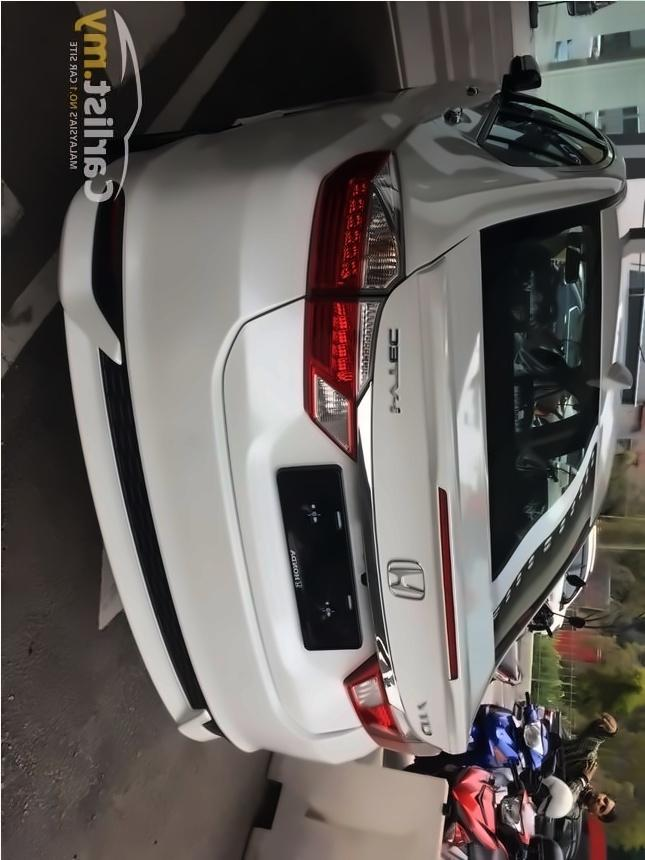Car boot: (221, 232, 499, 750), (496, 52, 554, 102)
Passenger-s door - -R-L-: (193, 96, 630, 193)
Rear bumper: (60, 136, 372, 781)
Rear light - -L-: (304, 146, 407, 463)
Rear light - -R-: (344, 649, 424, 765)
